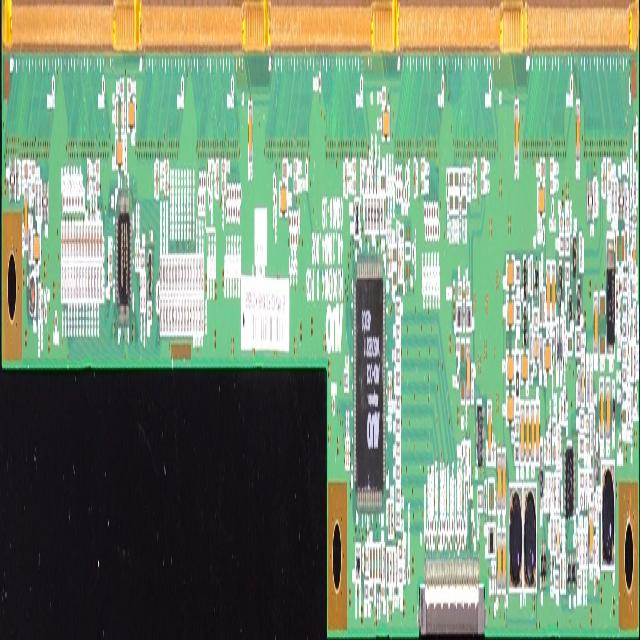Capacitor Jumper: (593, 296, 598, 372), (465, 337, 470, 408), (514, 101, 519, 170), (506, 298, 515, 336), (606, 377, 610, 456), (496, 531, 501, 591), (382, 107, 390, 144), (576, 99, 580, 173), (506, 391, 514, 427), (600, 382, 604, 454), (115, 96, 123, 132), (520, 352, 528, 386), (502, 530, 506, 598), (127, 99, 135, 133), (530, 402, 534, 467), (502, 447, 506, 512), (497, 451, 501, 516), (506, 258, 514, 290), (525, 401, 529, 465), (535, 407, 539, 471), (589, 508, 593, 572), (520, 402, 524, 464), (537, 186, 545, 216), (551, 266, 555, 324), (115, 140, 123, 169), (546, 264, 550, 321), (487, 404, 491, 461), (506, 352, 514, 380), (543, 340, 551, 365), (632, 232, 636, 278), (24, 186, 27, 246), (581, 360, 585, 405), (86, 161, 90, 201), (72, 222, 76, 259), (66, 224, 70, 260), (32, 236, 38, 260), (532, 337, 538, 361), (78, 225, 82, 258), (540, 158, 545, 182), (364, 539, 367, 576), (95, 154, 100, 176), (40, 292, 43, 327), (96, 227, 99, 260), (366, 542, 369, 575), (462, 301, 465, 332), (420, 157, 425, 175), (389, 374, 392, 404), (552, 443, 556, 465), (389, 247, 392, 276), (156, 160, 158, 202), (607, 177, 611, 198), (632, 278, 636, 299), (545, 436, 548, 464), (603, 157, 605, 198), (414, 162, 416, 202), (559, 212, 563, 232), (137, 234, 139, 274), (607, 157, 611, 176), (107, 267, 111, 286), (90, 222, 92, 259), (398, 247, 400, 284), (24, 163, 28, 181), (94, 222, 96, 258), (493, 562, 495, 598), (549, 162, 554, 176), (70, 224, 72, 259), (348, 436, 350, 471), (551, 475, 553, 510), (481, 158, 485, 175), (164, 160, 168, 177), (64, 224, 66, 258), (61, 225, 63, 259), (622, 345, 626, 362), (388, 371, 390, 405), (585, 416, 589, 433), (127, 79, 131, 96), (474, 162, 476, 195), (88, 224, 90, 257), (345, 438, 347, 471), (594, 539, 596, 572), (490, 562, 492, 595), (30, 162, 34, 178), (467, 170, 469, 202), (164, 180, 168, 196), (31, 182, 35, 198), (565, 216, 569, 232), (85, 225, 87, 257), (458, 282, 462, 298), (585, 441, 589, 457), (561, 398, 563, 429), (370, 163, 372, 193), (374, 163, 376, 193), (421, 174, 424, 194), (481, 177, 485, 192), (550, 179, 554, 194), (388, 244, 390, 274), (456, 340, 460, 355), (515, 421, 519, 436), (120, 79, 124, 94), (82, 225, 84, 254), (459, 171, 461, 199), (446, 172, 448, 200), (95, 182, 99, 196), (76, 228, 78, 256), (135, 244, 137, 272), (108, 252, 112, 266), (466, 284, 470, 297), (381, 586, 385, 598), (100, 223, 101, 260), (594, 494, 595, 526)
IC: (354, 260, 386, 508), (115, 192, 132, 332), (563, 446, 575, 519), (477, 401, 484, 469)
Resistor Jumper: (279, 183, 287, 218), (248, 102, 252, 166), (575, 329, 581, 357), (191, 298, 195, 335), (28, 228, 32, 264), (98, 264, 102, 300), (142, 278, 146, 314), (632, 303, 636, 339), (60, 268, 64, 302), (75, 267, 79, 300), (539, 334, 542, 377), (188, 301, 192, 333), (179, 302, 183, 334), (630, 388, 633, 430), (96, 267, 100, 298), (72, 269, 76, 300), (16, 162, 19, 202), (614, 179, 617, 219), (611, 180, 614, 220), (564, 235, 570, 255), (544, 478, 548, 508), (577, 367, 580, 406), (590, 415, 593, 454), (200, 298, 203, 336), (590, 370, 593, 408), (554, 475, 557, 513), (78, 270, 82, 298), (633, 170, 636, 207), (585, 474, 588, 511), (557, 477, 560, 514), (147, 301, 152, 323), (395, 322, 400, 344), (159, 256, 162, 292), (140, 275, 143, 311), (586, 367, 589, 403), (389, 547, 392, 583), (221, 177, 226, 198), (140, 250, 145, 271), (165, 260, 168, 295), (579, 410, 584, 431), (174, 260, 177, 294), (165, 300, 168, 334), (182, 302, 185, 336), (515, 264, 520, 284), (395, 298, 400, 318), (398, 567, 403, 587), (195, 258, 198, 291), (168, 298, 171, 331), (579, 533, 582, 566), (596, 536, 599, 569), (403, 545, 406, 578), (200, 256, 203, 288), (171, 260, 174, 292), (177, 306, 180, 338), (559, 236, 564, 255), (515, 304, 520, 323), (395, 418, 400, 437), (216, 158, 218, 203), (622, 280, 628, 295), (550, 520, 553, 550), (180, 261, 183, 290), (171, 305, 174, 334), (124, 135, 126, 177), (449, 190, 453, 211), (183, 262, 186, 290), (195, 304, 198, 332), (530, 325, 532, 367), (396, 368, 400, 389), (563, 396, 566, 424), (168, 263, 171, 290), (293, 177, 298, 193), (174, 296, 176, 336), (534, 309, 538, 329), (396, 394, 400, 414), (395, 466, 400, 482), (588, 472, 592, 492), (596, 490, 598, 530), (364, 582, 368, 602), (91, 262, 93, 301), (396, 343, 400, 362), (344, 373, 348, 392), (552, 419, 556, 438), (580, 438, 584, 457), (554, 573, 558, 592), (82, 264, 84, 301), (88, 264, 90, 301), (585, 533, 587, 570), (221, 157, 225, 175), (352, 162, 356, 180), (345, 162, 347, 198), (626, 185, 628, 221), (64, 266, 66, 302), (85, 268, 87, 304), (38, 286, 40, 322), (622, 321, 626, 339), (622, 368, 626, 386), (548, 430, 550, 466), (396, 441, 400, 459), (396, 512, 400, 530), (398, 544, 402, 562), (163, 259, 165, 294), (67, 267, 69, 302), (558, 429, 560, 464), (189, 266, 192, 289), (352, 177, 356, 194), (36, 183, 38, 217), (462, 196, 466, 213), (579, 236, 581, 270), (94, 266, 96, 300), (543, 292, 545, 326), (580, 471, 584, 488), (396, 489, 400, 506), (554, 520, 556, 554), (563, 556, 565, 590), (39, 187, 41, 220), (634, 343, 636, 376), (282, 162, 286, 178), (594, 180, 596, 212), (177, 259, 179, 291), (515, 449, 519, 465), (548, 477, 550, 509), (582, 533, 584, 565), (577, 575, 581, 591), (70, 270, 72, 301), (160, 298, 162, 329), (382, 548, 384, 579), (293, 162, 298, 174), (198, 259, 200, 289), (391, 504, 393, 534), (395, 554, 397, 583), (448, 171, 452, 185), (454, 196, 458, 210), (186, 263, 188, 291), (186, 303, 188, 331), (198, 300, 200, 327), (192, 262, 194, 288), (455, 174, 458, 188), (163, 298, 164, 332)
Transistor: (540, 540, 546, 592), (575, 282, 582, 318), (522, 254, 527, 300), (147, 250, 152, 295), (572, 233, 577, 275), (558, 262, 563, 304), (571, 555, 576, 595), (522, 303, 527, 340), (534, 253, 538, 298), (566, 553, 570, 597), (568, 291, 572, 322)
